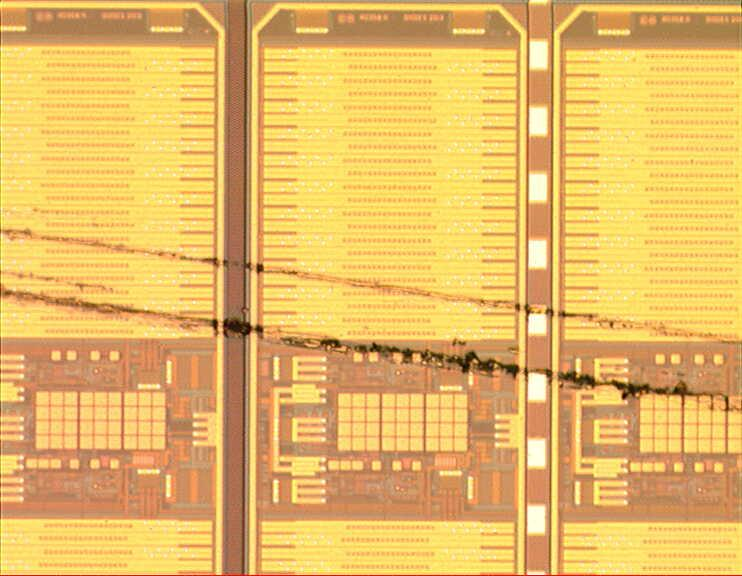SCRATCH: (1, 220, 742, 421)
